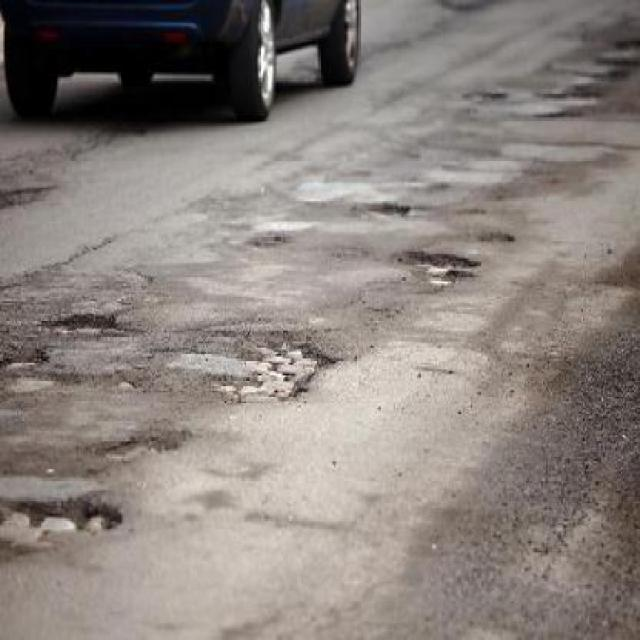Pothole: (212, 335, 338, 410), (0, 482, 128, 546), (391, 247, 480, 295), (0, 348, 60, 397), (45, 307, 124, 338), (0, 179, 54, 213), (365, 200, 412, 218)
